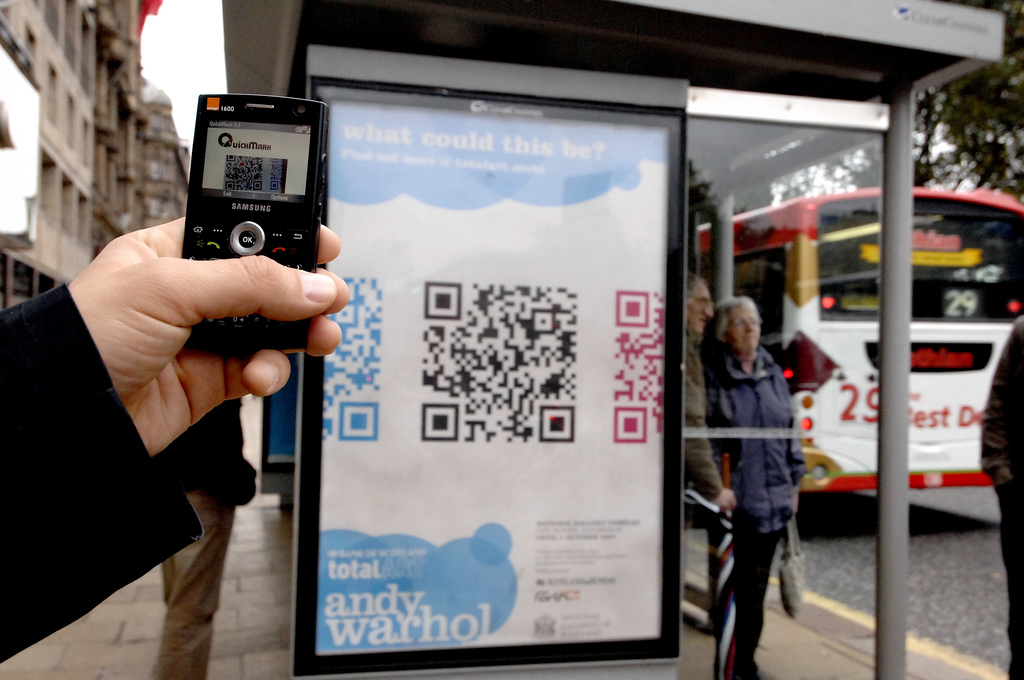QR-CODE: (421, 281, 577, 442), (322, 277, 383, 440), (613, 290, 663, 443), (225, 155, 262, 190), (270, 158, 282, 189)
